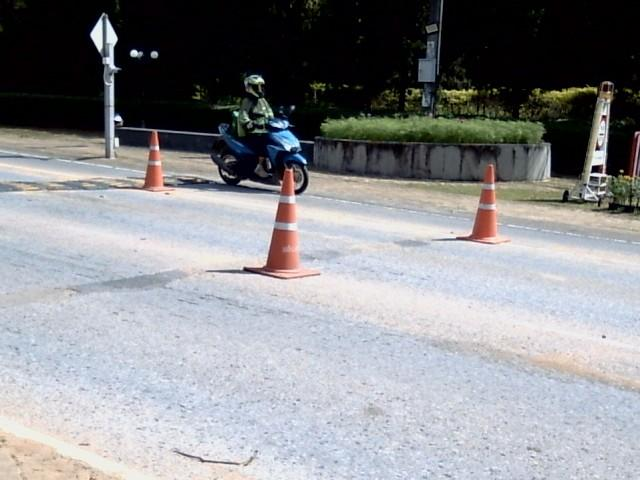helmet: (244, 71, 265, 92)
motor: (212, 112, 307, 195)
person: (238, 75, 273, 177)
